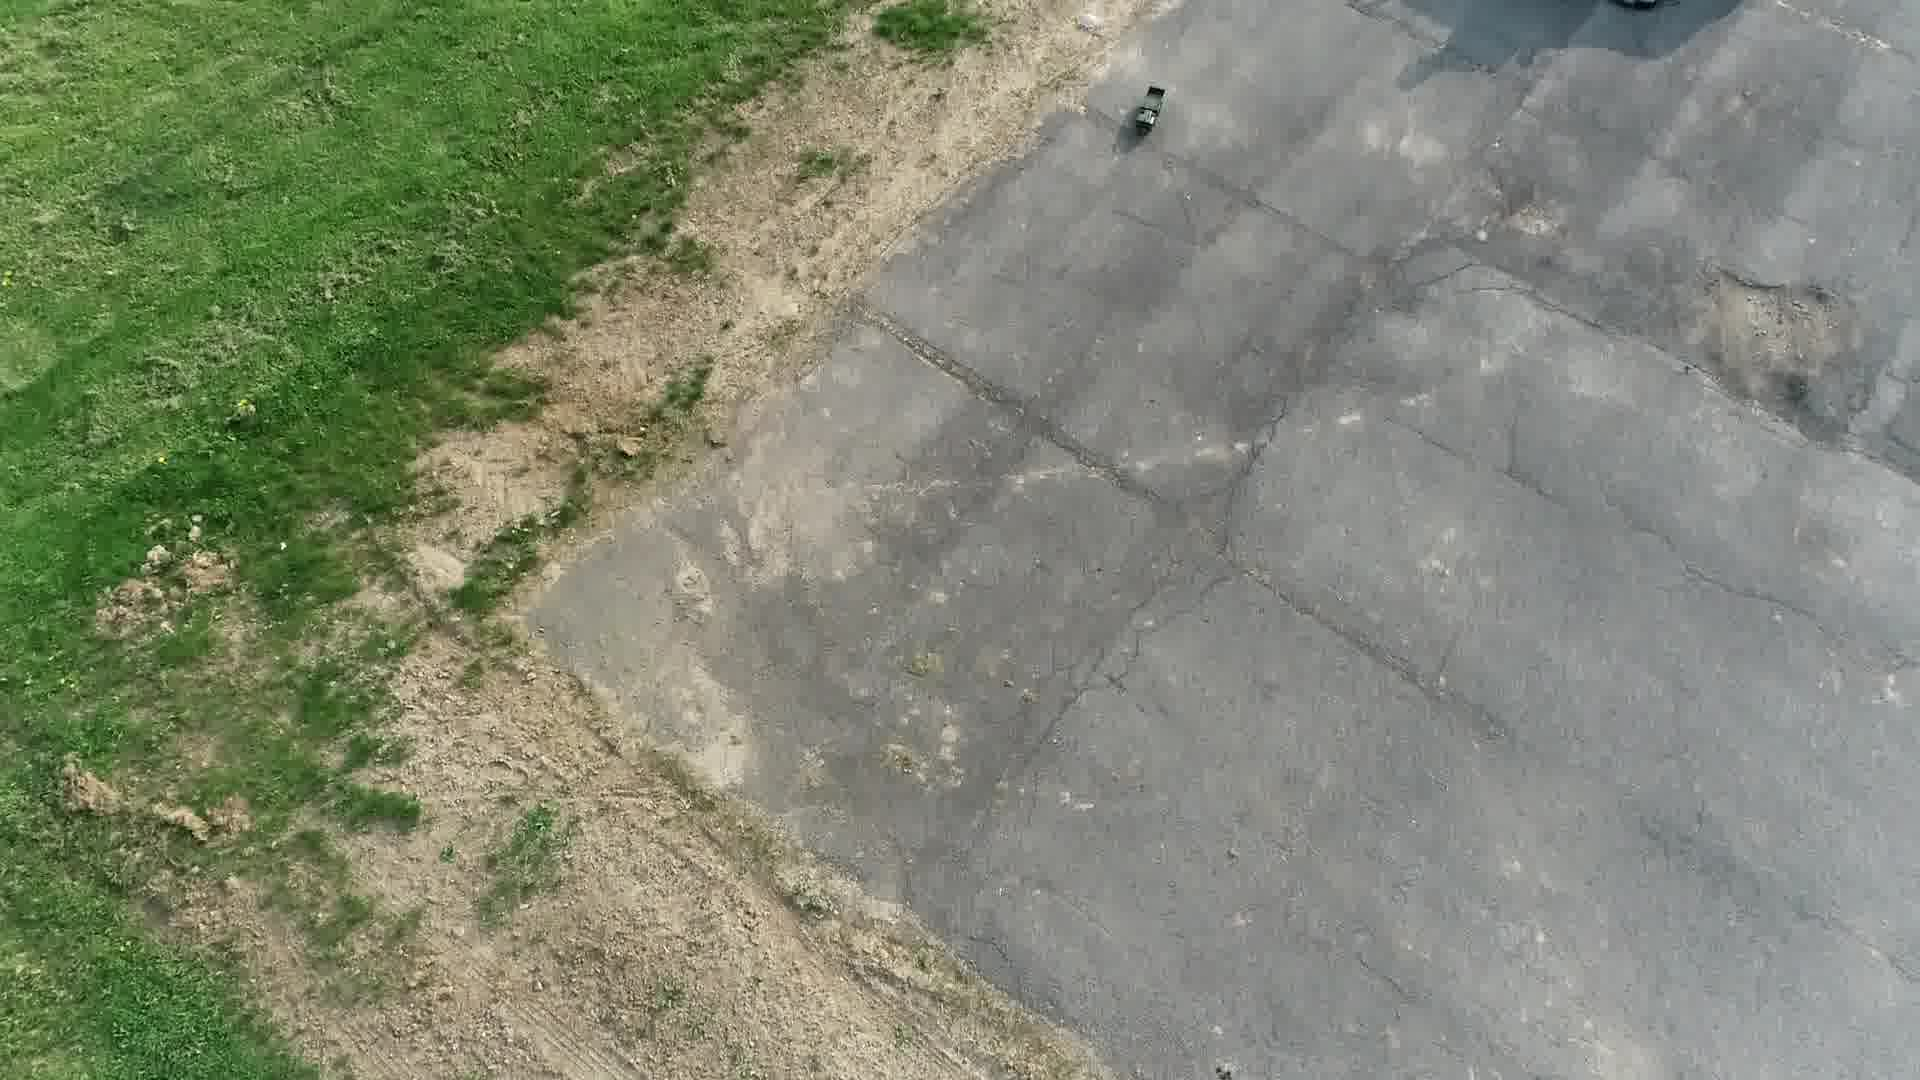transporter9: (1130, 83, 1167, 140)
